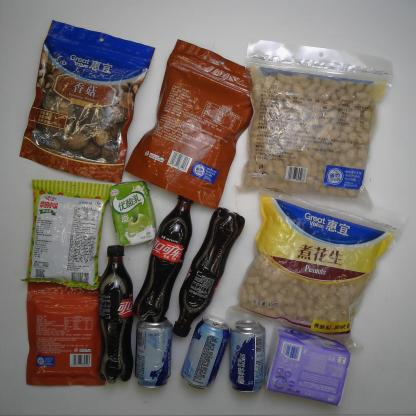Alcohol: (180, 316, 230, 390), (133, 317, 173, 390), (229, 321, 264, 394)
Dried Food: (232, 190, 406, 358), (123, 39, 263, 209), (243, 44, 392, 203), (17, 20, 155, 184)
Dried Fruit: (24, 268, 108, 386)
Drink: (172, 204, 245, 338), (133, 184, 196, 323), (98, 243, 134, 383)
Milk: (107, 181, 156, 249)
Puffed Food: (21, 176, 111, 294)
Tissue: (264, 327, 351, 405)
